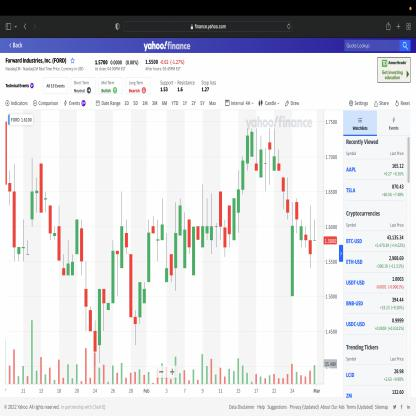Bullish: 3 White Soldiers: (232, 152, 245, 242)
Bullish: Morning Star Doji: (128, 251, 142, 348)
